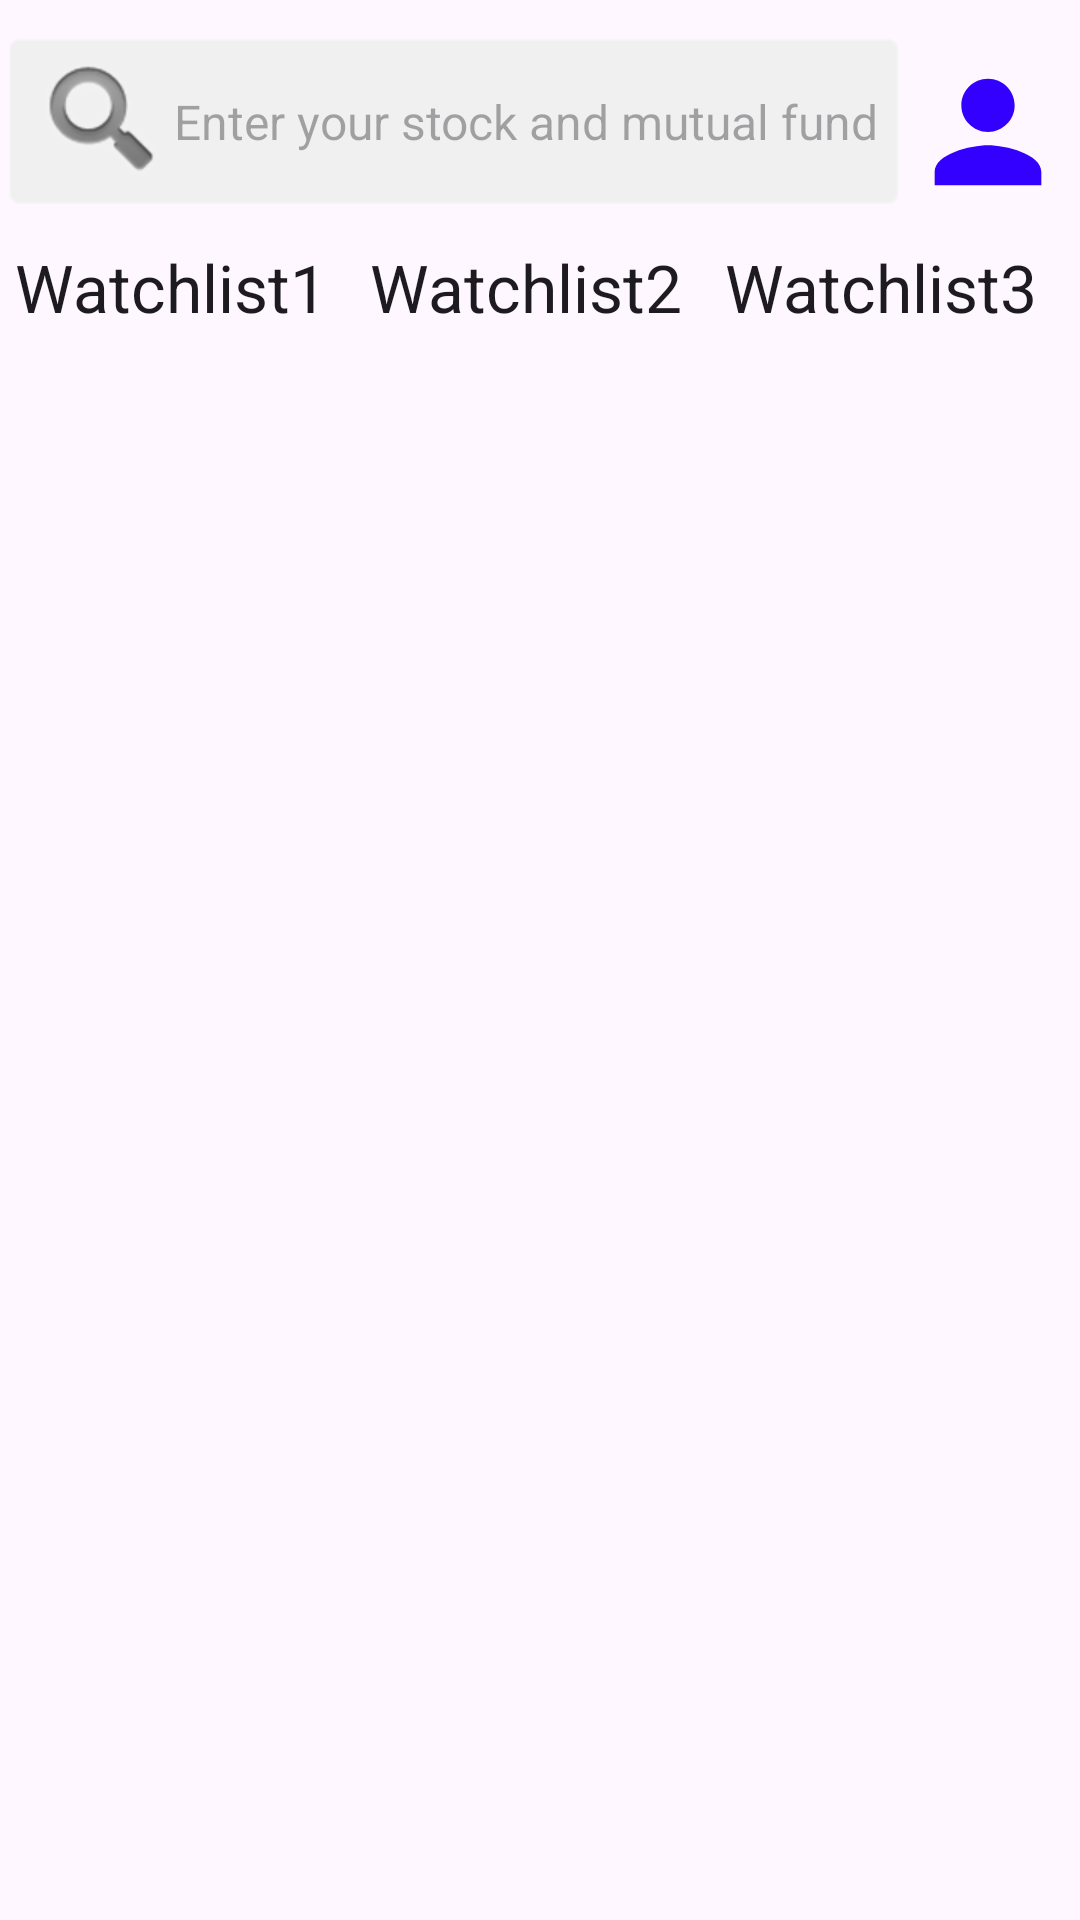

Icons on this 1080*1920 Android screen, each with its box as bbox=(x1, y1, x2, y2):
person: bbox=(934, 78, 1042, 186)
